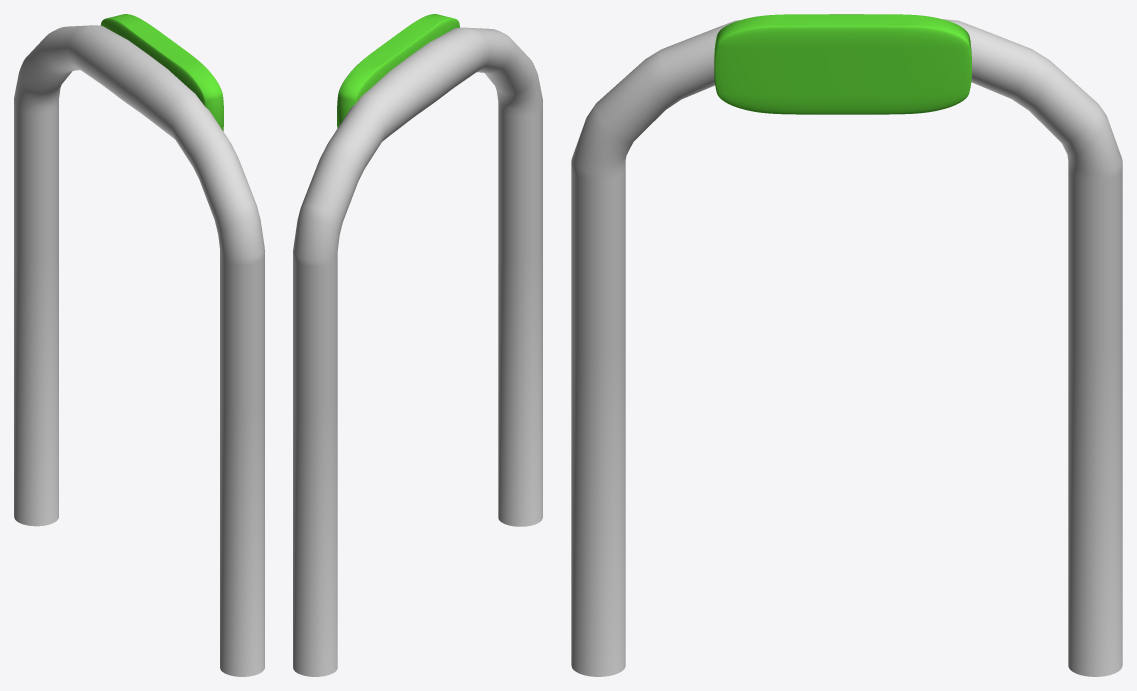
File: Door.fbx
3 views of the same model, side by side, from view 1: azimuth 30°, elevation 25°; view 2: azimuth 150°, elevation 25°; view 3: azimuth 270°, elevation 25° (orthographic). The views are drawn at different scales.
Visible parts, largest first — view 1: popcorn door, free text; view 2: popcorn door, free text; view 3: popcorn door, free text.
Part boxes in pixels (left/top/right/bottom): popcorn door: left=14, top=25, right=264, bottom=676; free text: left=100, top=14, right=223, bottom=131; popcorn door: left=293, top=27, right=542, bottom=676; free text: left=337, top=14, right=459, bottom=128; popcorn door: left=571, top=14, right=1122, bottom=676; free text: left=714, top=14, right=971, bottom=114.
Size of the model in its own units: 163 by 1488 by 1130.
